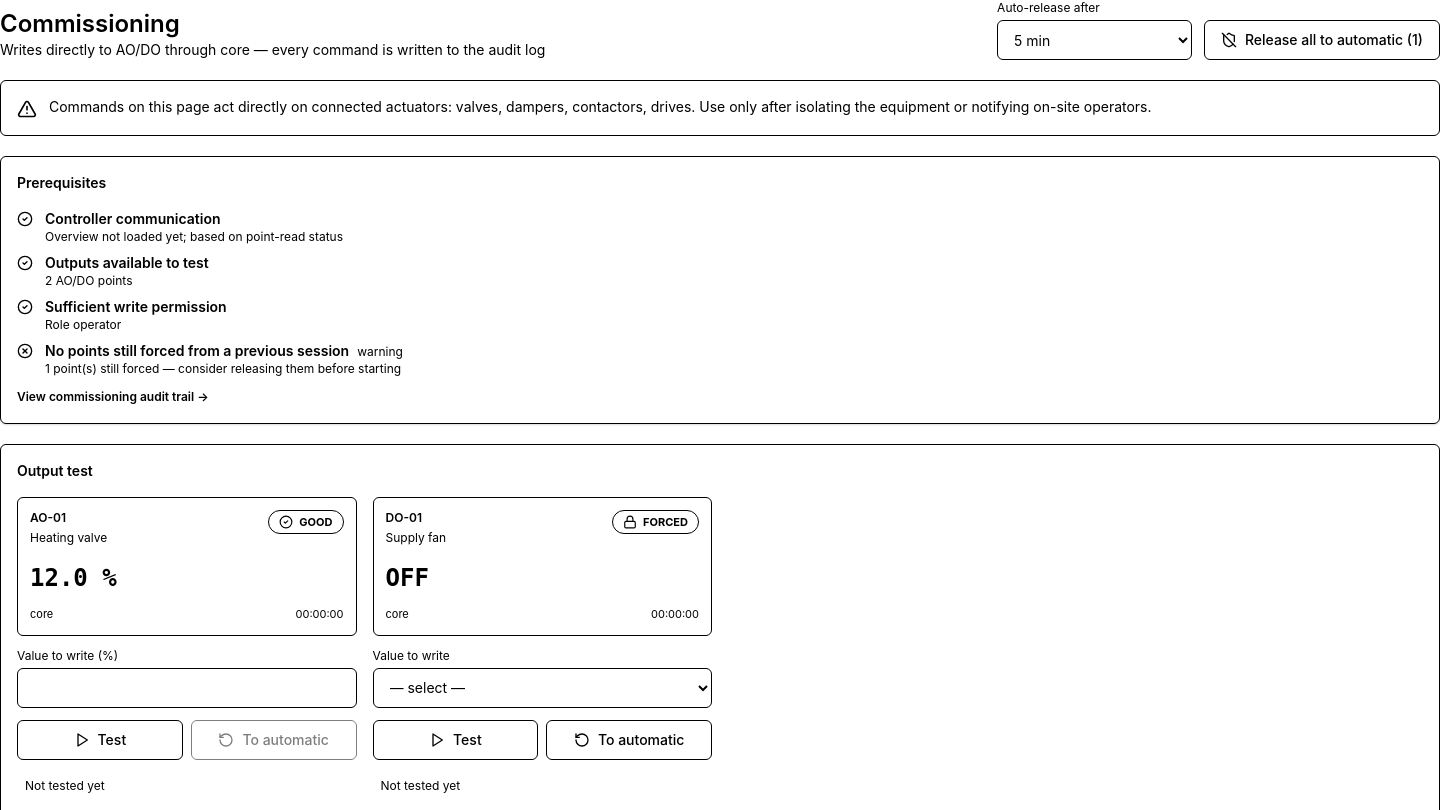
Test: CommissioningPage auto-release timeout › shows the remaining time the controller actually reported
Type "35" into the number field named "Value to write for AO-01".
click(187, 688); type("35")  # box top-left (17, 668), bottom-right (356, 708)
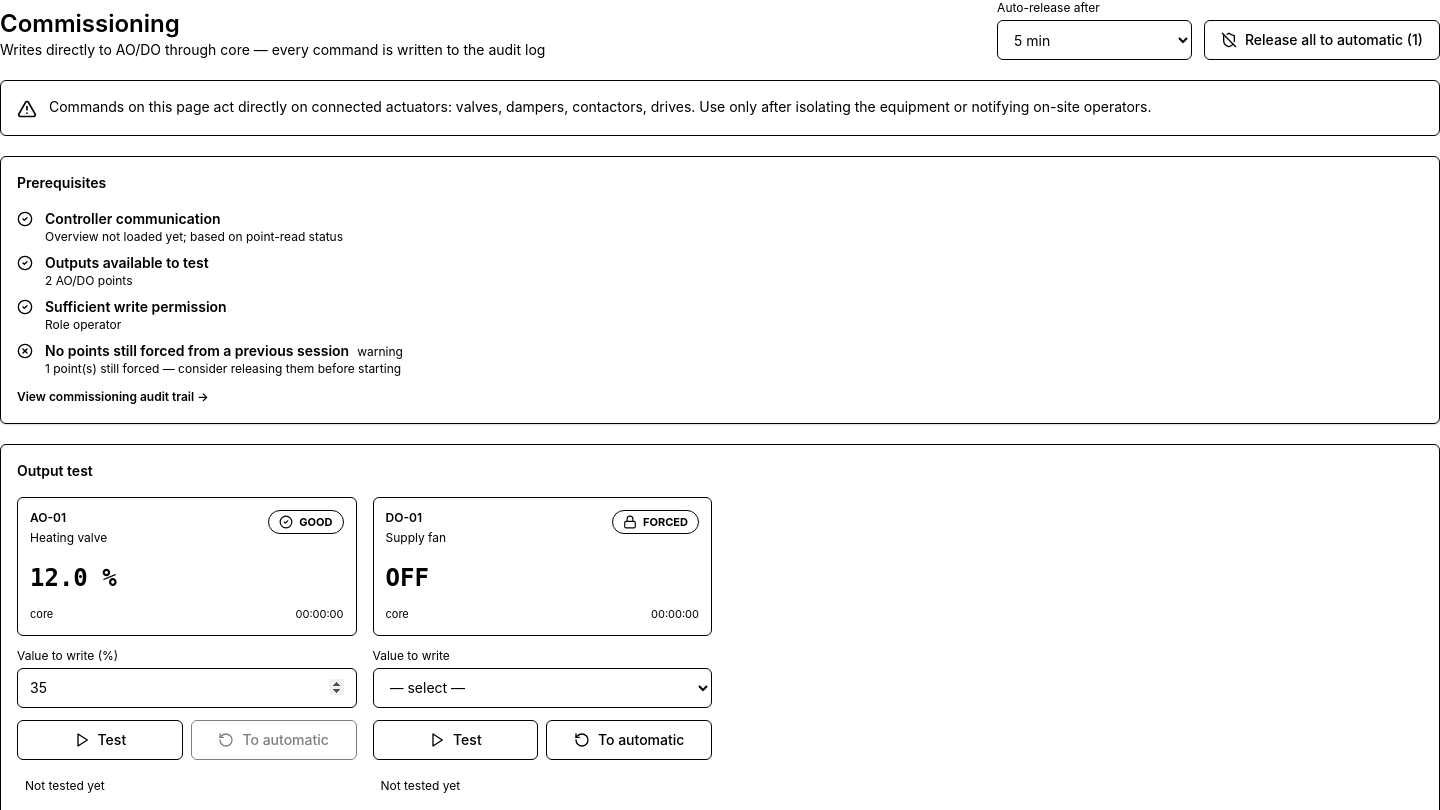
Click the button with aria-label "Test AO-01".
click(100, 740)  # box top-left (17, 720), bottom-right (183, 760)
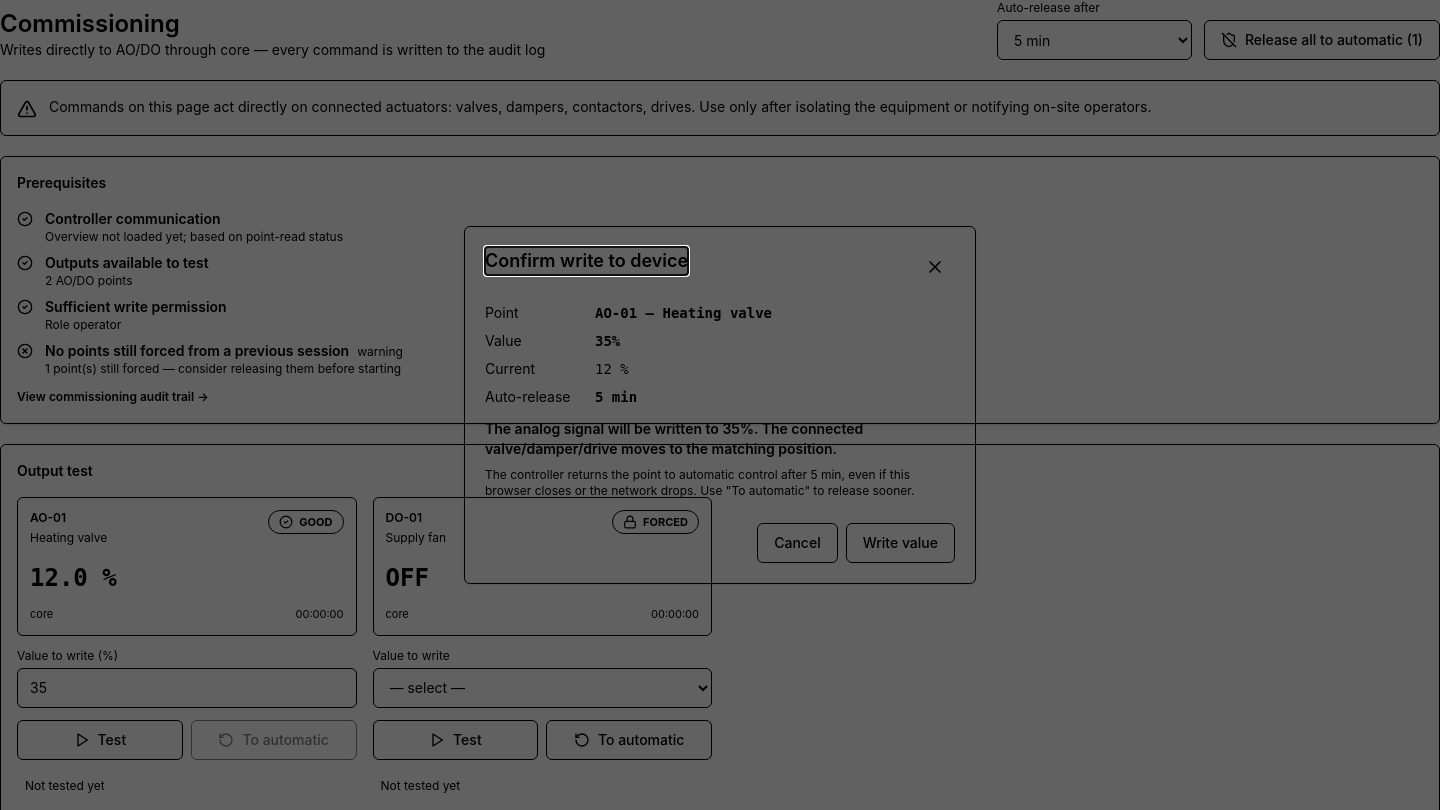
Click the button "Write value".
click(900, 543)  # box top-left (846, 523), bottom-right (955, 563)
(page scrolled)
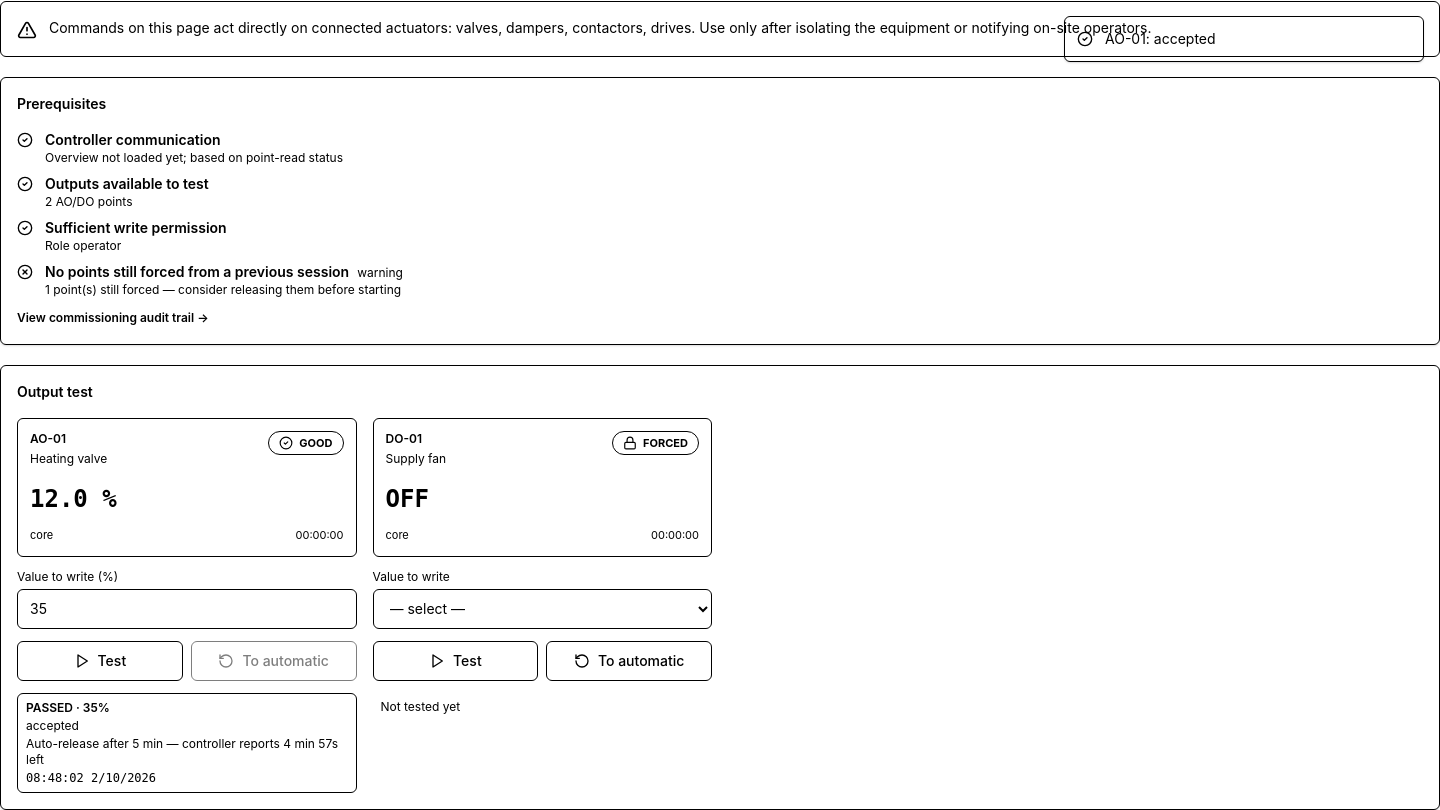
Check: the text "Auto-release after 5 min — controller reports 4 min 57s left" is shown, box top-left (26, 736), bottom-right (348, 768)
